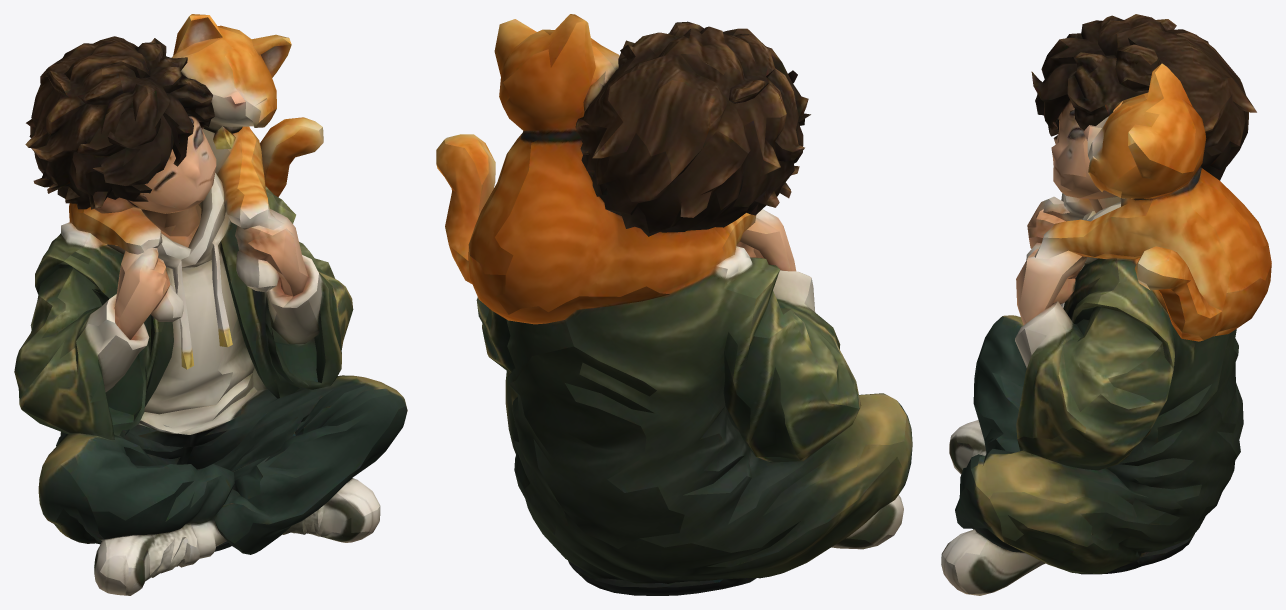
File: cat-hug.glb
The picture shows the model from 3 angles, left to right: view 1: azimuth 30°, elevation 25°; view 2: azimuth 150°, elevation 25°; view 3: azimuth 270°, elevation 25°; orthographic projection. The views are drawn at different scales.
Parts seen in each view (by area): view 1: geometry_0; view 2: geometry_0; view 3: geometry_0.
Part boxes in pixels (left/top/right/bottom): geometry_0: left=14, top=14, right=407, bottom=595; geometry_0: left=436, top=14, right=912, bottom=595; geometry_0: left=941, top=14, right=1271, bottom=595.
Size of the model in its own units: 0.168 by 0.22 by 0.1335.
Materials: 1 (1 with a texture image).
